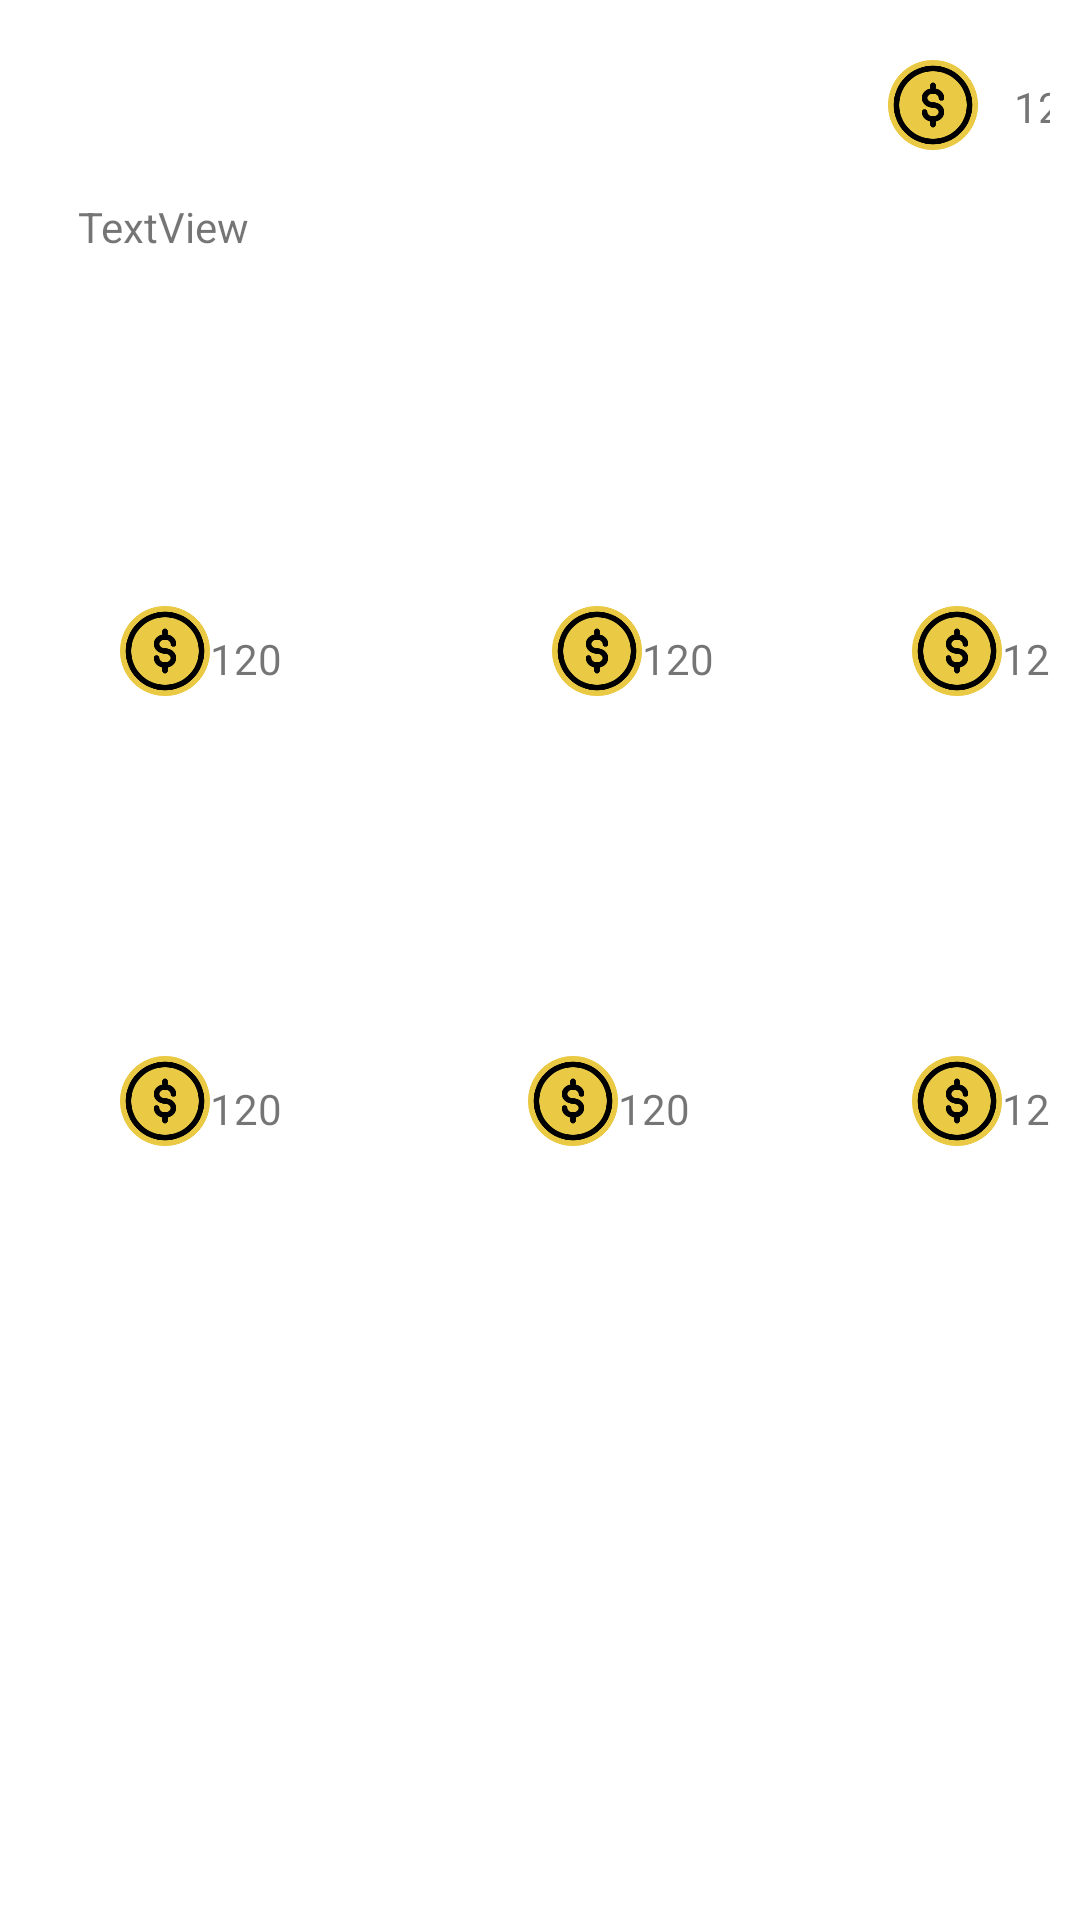

Named icons in this screenshot (1080 × 1920) and their centers, point (x, y):
coin dollar: point (933, 105), point (165, 651), point (597, 651), point (957, 651), point (165, 1101), point (573, 1101), point (957, 1101)
